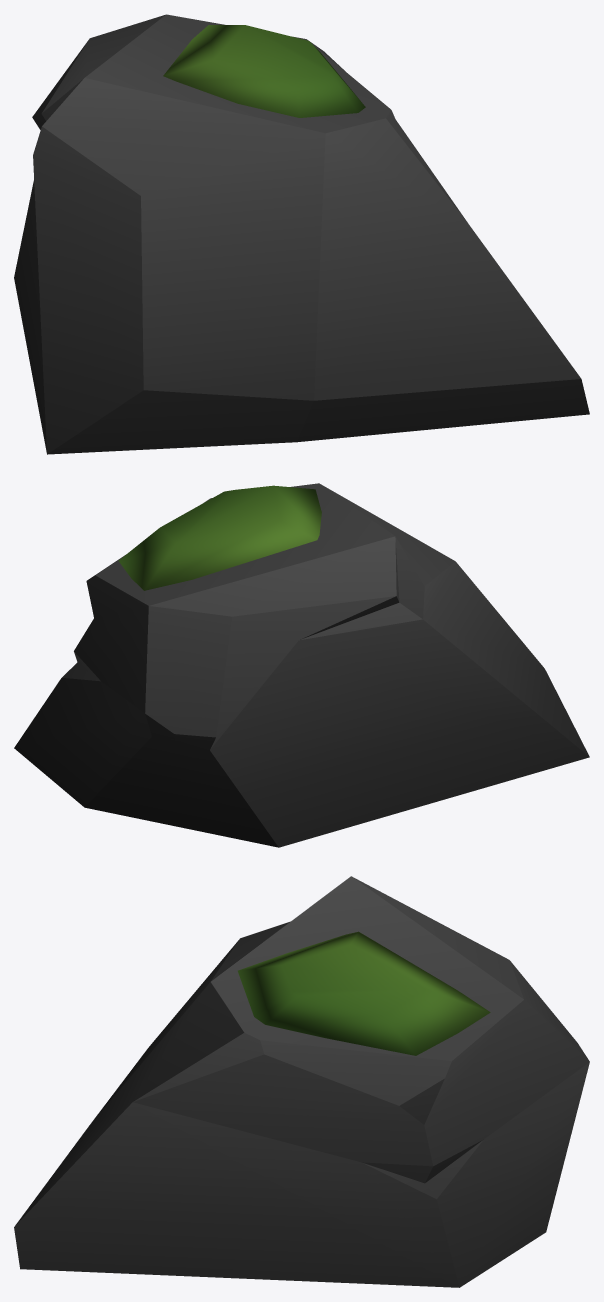
Rendered from rock2.obj.
3 renders of one model, top to bottom at view 1: azimuth 30°, elevation 25°; view 2: azimuth 150°, elevation 25°; view 3: azimuth 270°, elevation 25°, orthographic. The views are drawn at different scales.
Visible parts, largest first — view 1: RBg5; view 2: RBg5; view 3: RBg5.
Boxes of the visible parts, bbox=[...] form: RBg5: bbox=[14, 14, 589, 454]; RBg5: bbox=[14, 483, 589, 847]; RBg5: bbox=[14, 876, 589, 1287].
Size of the model in its own units: 1.66 by 0.9084 by 1.88.
1 material, 1 textured.
